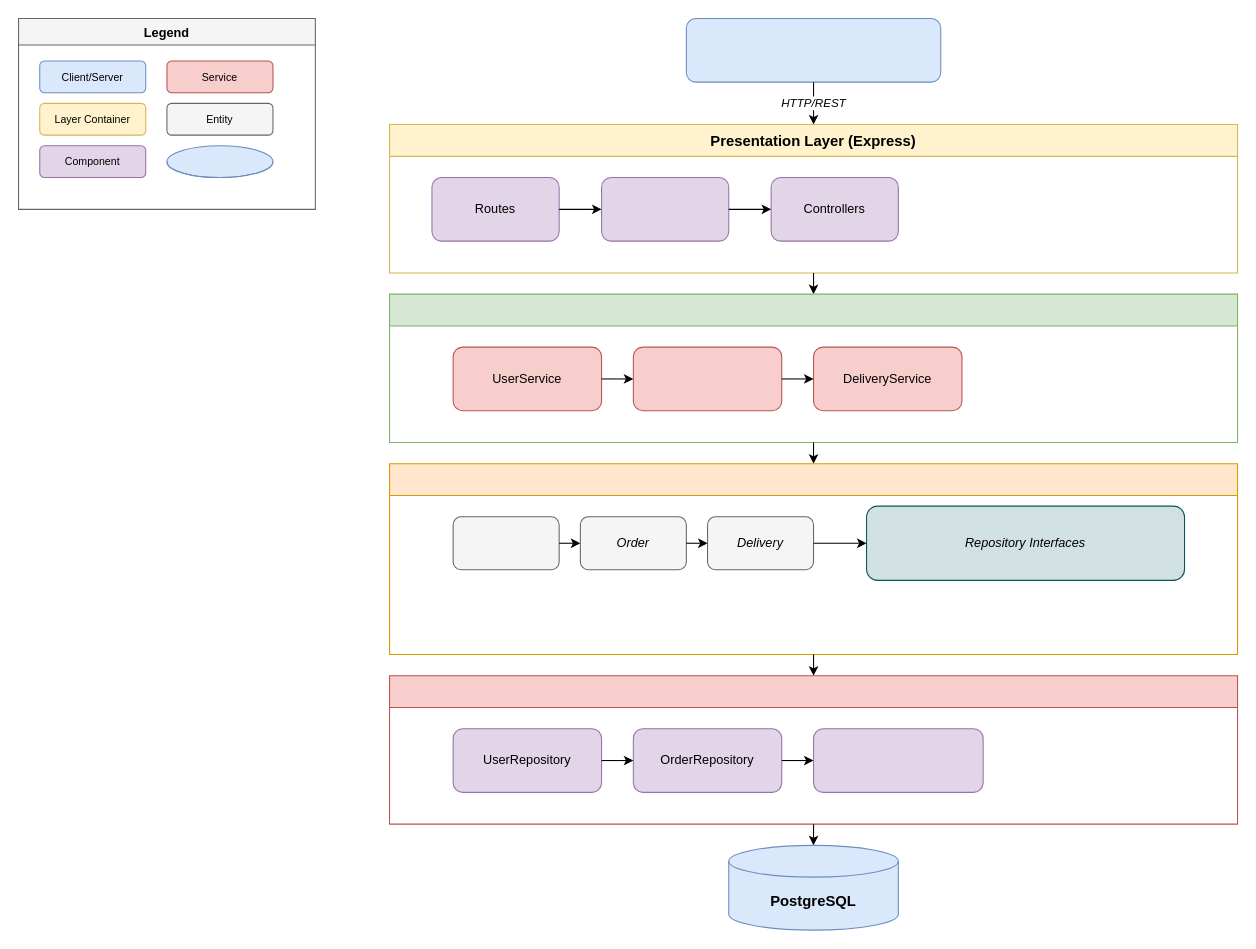
Image size: 1256x949. Some labels were removed from this diagram. Here are the shapes that lost their labels. From the top down, the box of each, then its label:
(685, 17, 941, 82): Client (Browser)
(166, 145, 273, 178): Database
(600, 176, 729, 241): Middleware
(632, 346, 782, 411): OrderService
(388, 293, 1238, 443): Application Layer (Services)
(452, 516, 559, 570): User
(388, 463, 1238, 655): Domain Layer (Entities)
(388, 675, 1238, 824): Infrastructure Layer (Prisma + PostgreSQL)
(812, 728, 983, 792): DeliveryRepository
